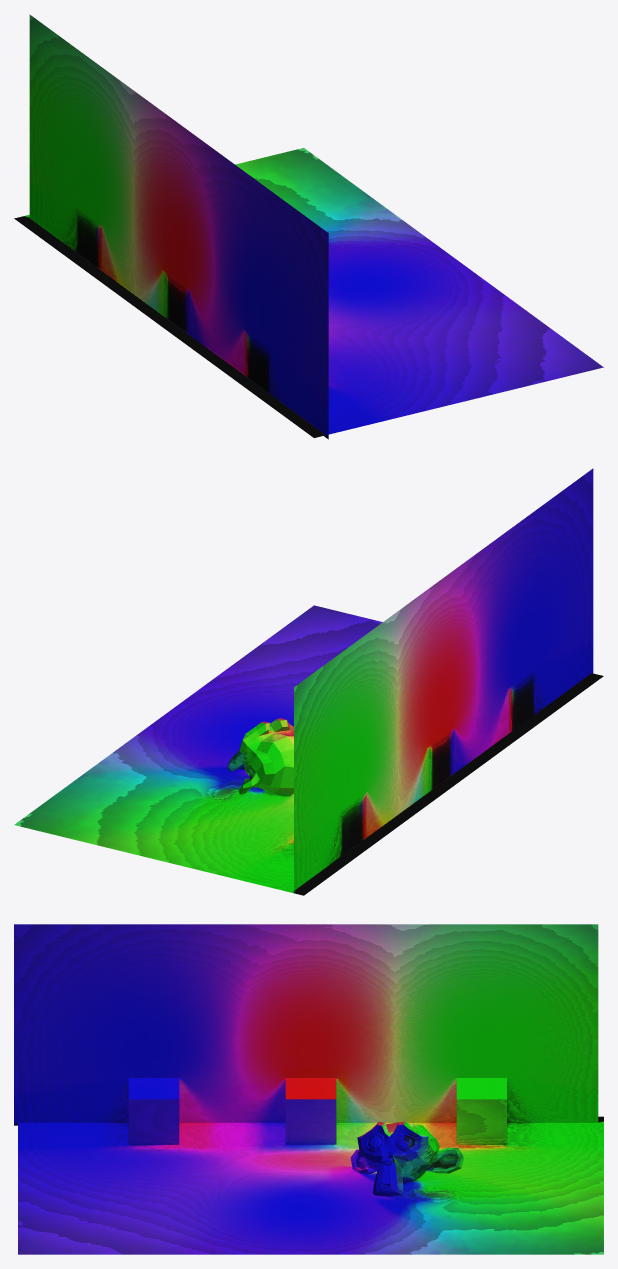
File: channel_test.glb
The picture shows the model from 3 angles, top to bottom: view 1: azimuth 30°, elevation 25°; view 2: azimuth 150°, elevation 25°; view 3: azimuth 270°, elevation 25°; orthographic projection. The views are drawn at different scales.
Parts seen in each view (by area): view 1: Plane.001; view 2: Plane.001; view 3: Plane.001.
Boxes of the visible parts, box(x1,y1,x2,y2) form: Plane.001: box(14, 14, 603, 439); Plane.001: box(14, 468, 603, 895); Plane.001: box(14, 924, 603, 1254).
Bounding box in the file's own units: 7.44 × 5.12 × 13.44.
1 material, 1 textured.
